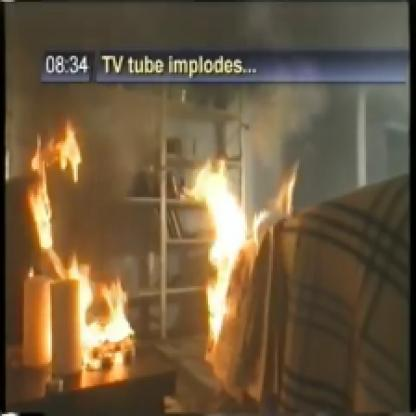fire: (14, 114, 148, 391), (185, 138, 305, 361)
